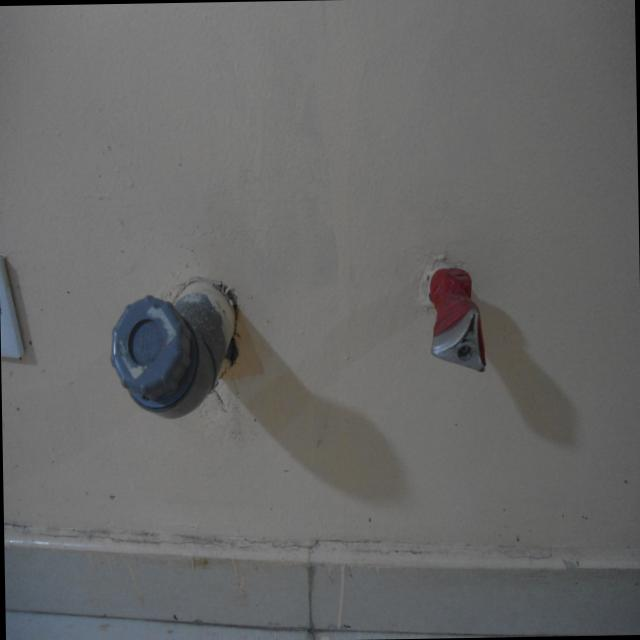obstacle: (102, 266, 245, 437), (422, 252, 491, 378)
